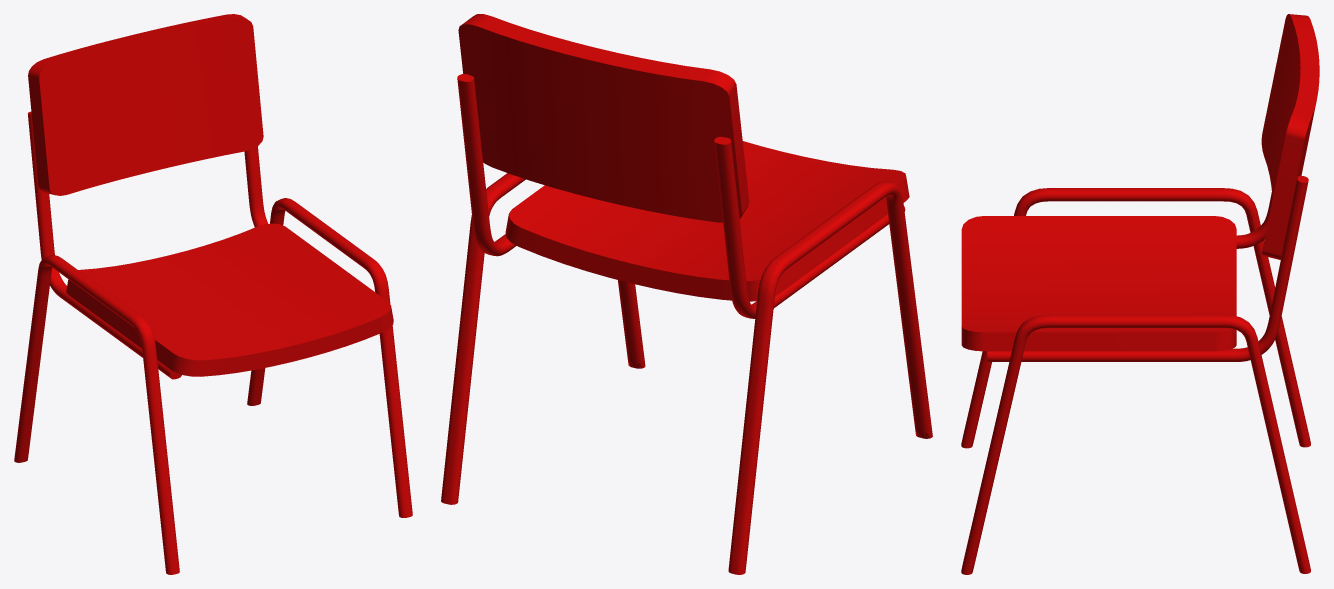
File: chair.glb
3 renders of one model, left to right at view 1: azimuth 30°, elevation 25°; view 2: azimuth 150°, elevation 25°; view 3: azimuth 270°, elevation 25°, orthographic. The views are drawn at different scales.
Visible parts, largest first — view 1: CHAIR JOIN; view 2: CHAIR JOIN; view 3: CHAIR JOIN.
Part boxes in pixels (<box>): CHAIR JOIN: <box>14,14,412,574</box>; CHAIR JOIN: <box>441,14,932,574</box>; CHAIR JOIN: <box>961,14,1319,574</box>.
Bounding box in the file's own units: 0.677 × 1.05 × 0.7688.
